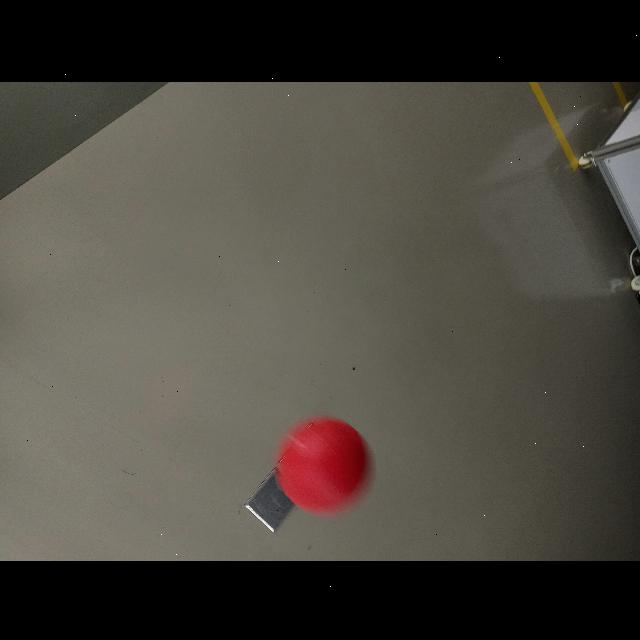R: (280, 416, 372, 516)
